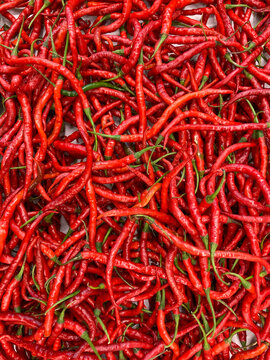Cabai: (65, 78, 215, 291)
